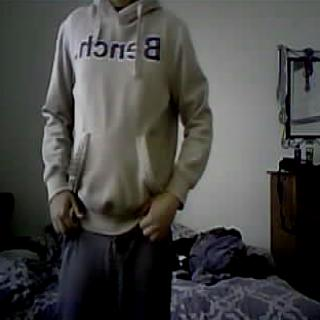Gray Sweatpants: (57, 221, 176, 320)
Yellow Hoodie: (41, 0, 208, 224)
